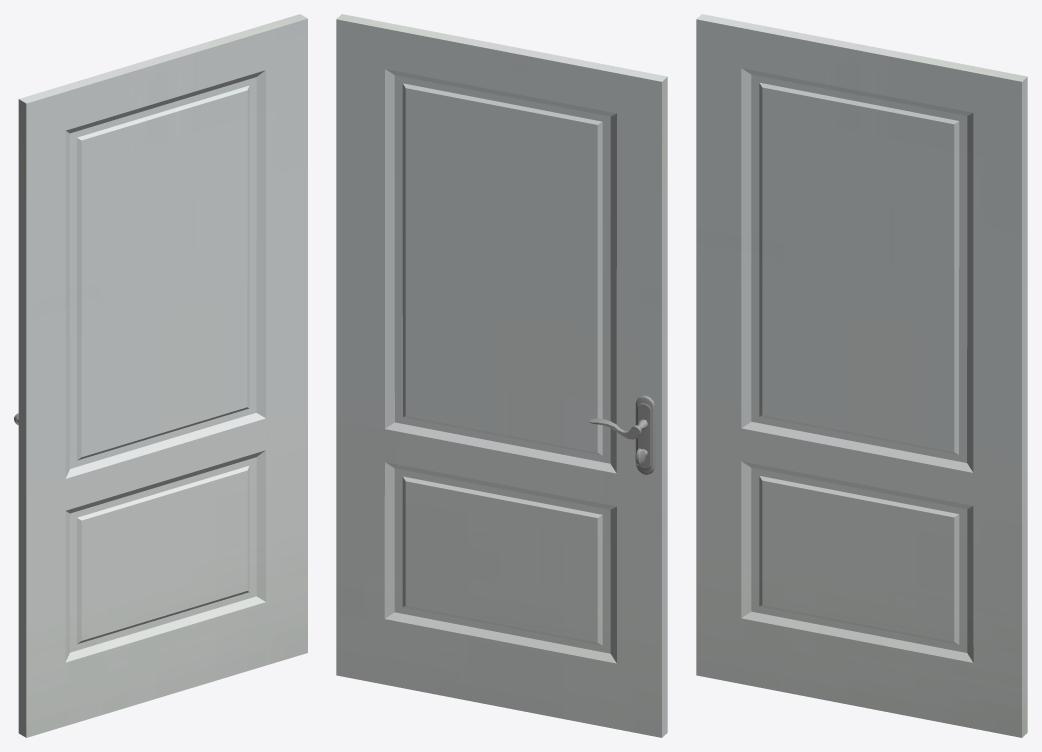
File: men07.fbx
3 renders of one model, left to right at view 1: azimuth 30°, elevation 25°; view 2: azimuth 150°, elevation 25°; view 3: azimuth 330°, elevation 25°, orthographic. The views are drawn at different scales.
Parts seen in each view (by area): view 1: men07; view 2: men07; view 3: men07.
Boxes of the visible parts, x1,y1,x2,y2 form: men07: [14, 14, 307, 737]; men07: [336, 14, 667, 737]; men07: [696, 14, 1027, 737].
Bounding box in the file's own units: 103 × 210 × 14.25.
